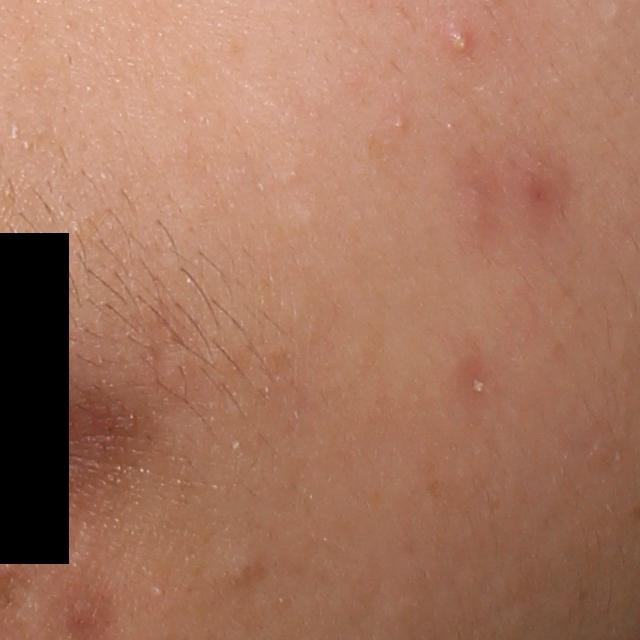comedo: (226, 557, 264, 587), (391, 117, 408, 133), (152, 585, 168, 599)
pustule: (445, 27, 473, 59)
